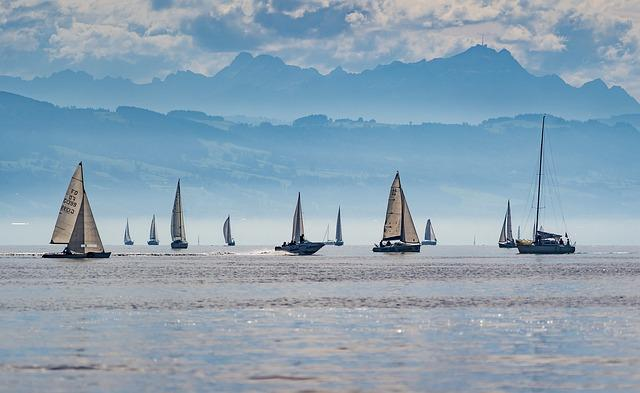Ship: (45, 164, 109, 259), (374, 174, 422, 253), (276, 194, 326, 255), (517, 231, 576, 255), (172, 181, 189, 249), (224, 217, 236, 247), (149, 216, 160, 245), (125, 221, 135, 247)
